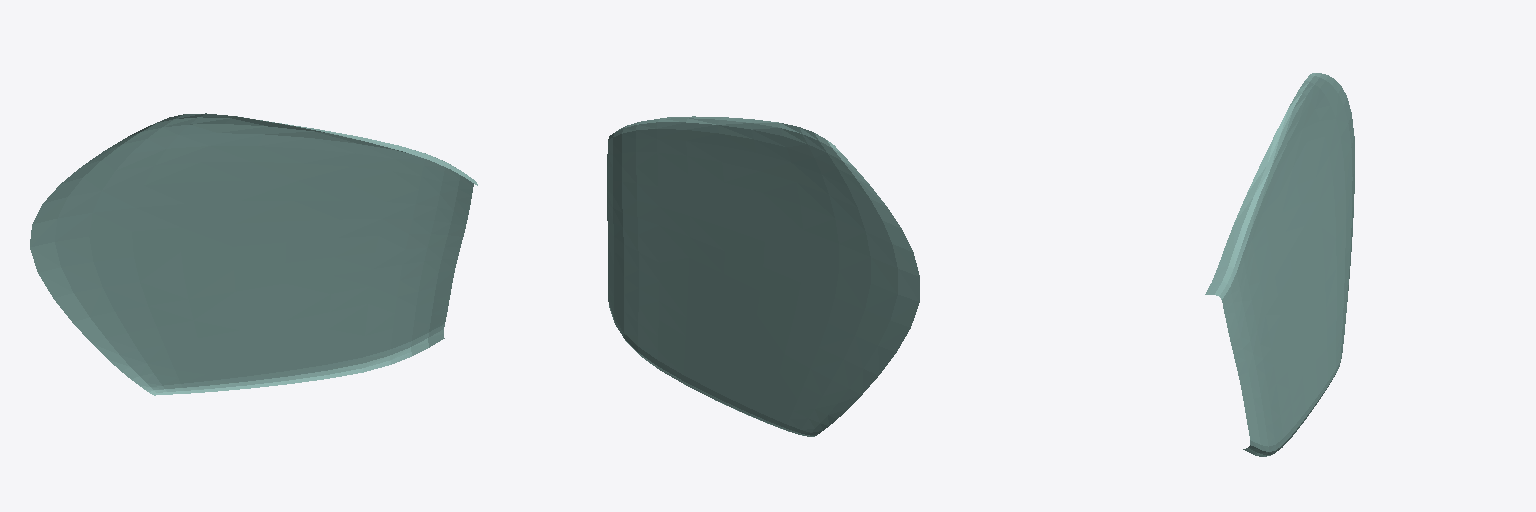
File: espejoDerecho.obj
3 renders of one model, left to right at view 1: azimuth 30°, elevation 25°; view 2: azimuth 150°, elevation 25°; view 3: azimuth 270°, elevation 25°, orthographic.
Visible parts, largest first — view 1: Espejos.002_Cube.003; view 2: Espejos.002_Cube.003; view 3: Espejos.002_Cube.003.
Part boxes in pixels (x1,y1,x2,y2): Espejos.002_Cube.003: (30,113,477,395); Espejos.002_Cube.003: (607,116,919,436); Espejos.002_Cube.003: (1205,73,1354,456).
Bounding box in the file's own units: 0.5967 × 0.4433 × 0.2054.